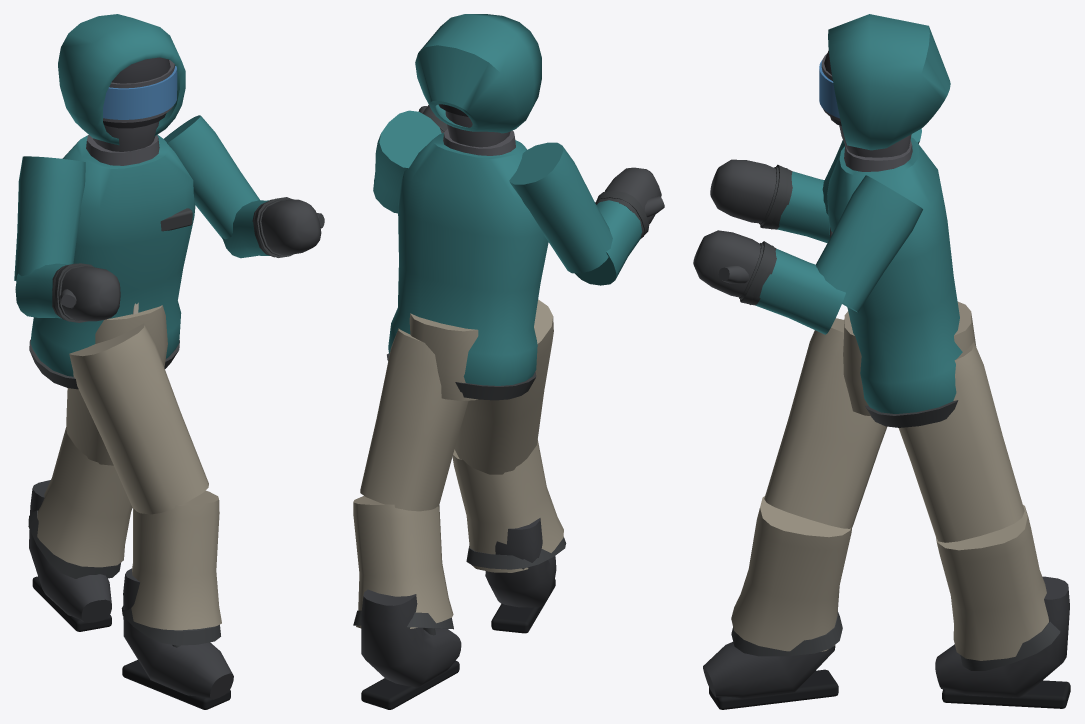
File: RiderBoard.fbx
The picture shows the model from 3 angles, left to right: view 1: azimuth 30°, elevation 25°; view 2: azimuth 150°, elevation 25°; view 3: azimuth 270°, elevation 25°; orthographic projection. The views are drawn at different scales.
Parts seen in each view (by area): view 1: Torso, ThighLeft, ShinLeft, ShinRight, ArmLeft, BootLeft, ArmRight, Head, BootRight, HandLeft, HandRight, ForearmLeft (+3 smaller); view 2: Torso, ThighRight, ShinRight, ShinLeft, BootRight, ArmLeft, ThighLeft, BootLeft, ArmRight, Hips, ForearmLeft, HandLeft (+1 smaller); view 3: Torso, ThighLeft, ShinLeft, ThighRight, ShinRight, ArmRight, BootRight, BootLeft, ForearmRight, HandLeft, HandRight, ForearmLeft (+2 smaller).
Boxes of the visible parts, x1=… form: Torso: x1=29, y1=14, x2=195, y2=389; ThighLeft: x1=69, y1=323, x2=208, y2=514; ShinLeft: x1=121, y1=490, x2=221, y2=645; ShinRight: x1=28, y1=427, x2=132, y2=578; ArmLeft: x1=14, y1=156, x2=85, y2=280; BootLeft: x1=122, y1=568, x2=233, y2=709; ArmRight: x1=164, y1=115, x2=259, y2=239; Head: x1=93, y1=57, x2=177, y2=151; BootRight: x1=29, y1=480, x2=111, y2=631; HandLeft: x1=52, y1=263, x2=120, y2=322; HandRight: x1=252, y1=197, x2=324, y2=257; ForearmLeft: x1=15, y1=263, x2=84, y2=320; Torso: x1=387, y1=14, x2=548, y2=400; ThighRight: x1=360, y1=328, x2=468, y2=511; ShinRight: x1=353, y1=496, x2=453, y2=629; ShinLeft: x1=452, y1=439, x2=566, y2=572; BootRight: x1=361, y1=589, x2=461, y2=709; ArmLeft: x1=509, y1=142, x2=612, y2=273; ThighLeft: x1=454, y1=299, x2=553, y2=474; BootLeft: x1=485, y1=518, x2=556, y2=633; ArmRight: x1=373, y1=110, x2=441, y2=213; Hips: x1=409, y1=313, x2=478, y2=400; ForearmLeft: x1=575, y1=196, x2=645, y2=285; HandLeft: x1=595, y1=167, x2=664, y2=238; Torso: x1=827, y1=14, x2=962, y2=427; ThighLeft: x1=764, y1=318, x2=886, y2=528; ShinLeft: x1=731, y1=496, x2=852, y2=656; ThighRight: x1=898, y1=342, x2=1024, y2=542; ShinRight: x1=936, y1=505, x2=1060, y2=670; ArmRight: x1=816, y1=175, x2=922, y2=312; BootRight: x1=935, y1=576, x2=1070, y2=708; BootLeft: x1=703, y1=642, x2=838, y2=709; ForearmRight: x1=739, y1=243, x2=845, y2=334; HandLeft: x1=710, y1=159, x2=792, y2=229; HandRight: x1=693, y1=230, x2=776, y2=305; ForearmLeft: x1=759, y1=167, x2=829, y2=243.
Size of the model in its own units: 75.12 by 177 by 90.18.
